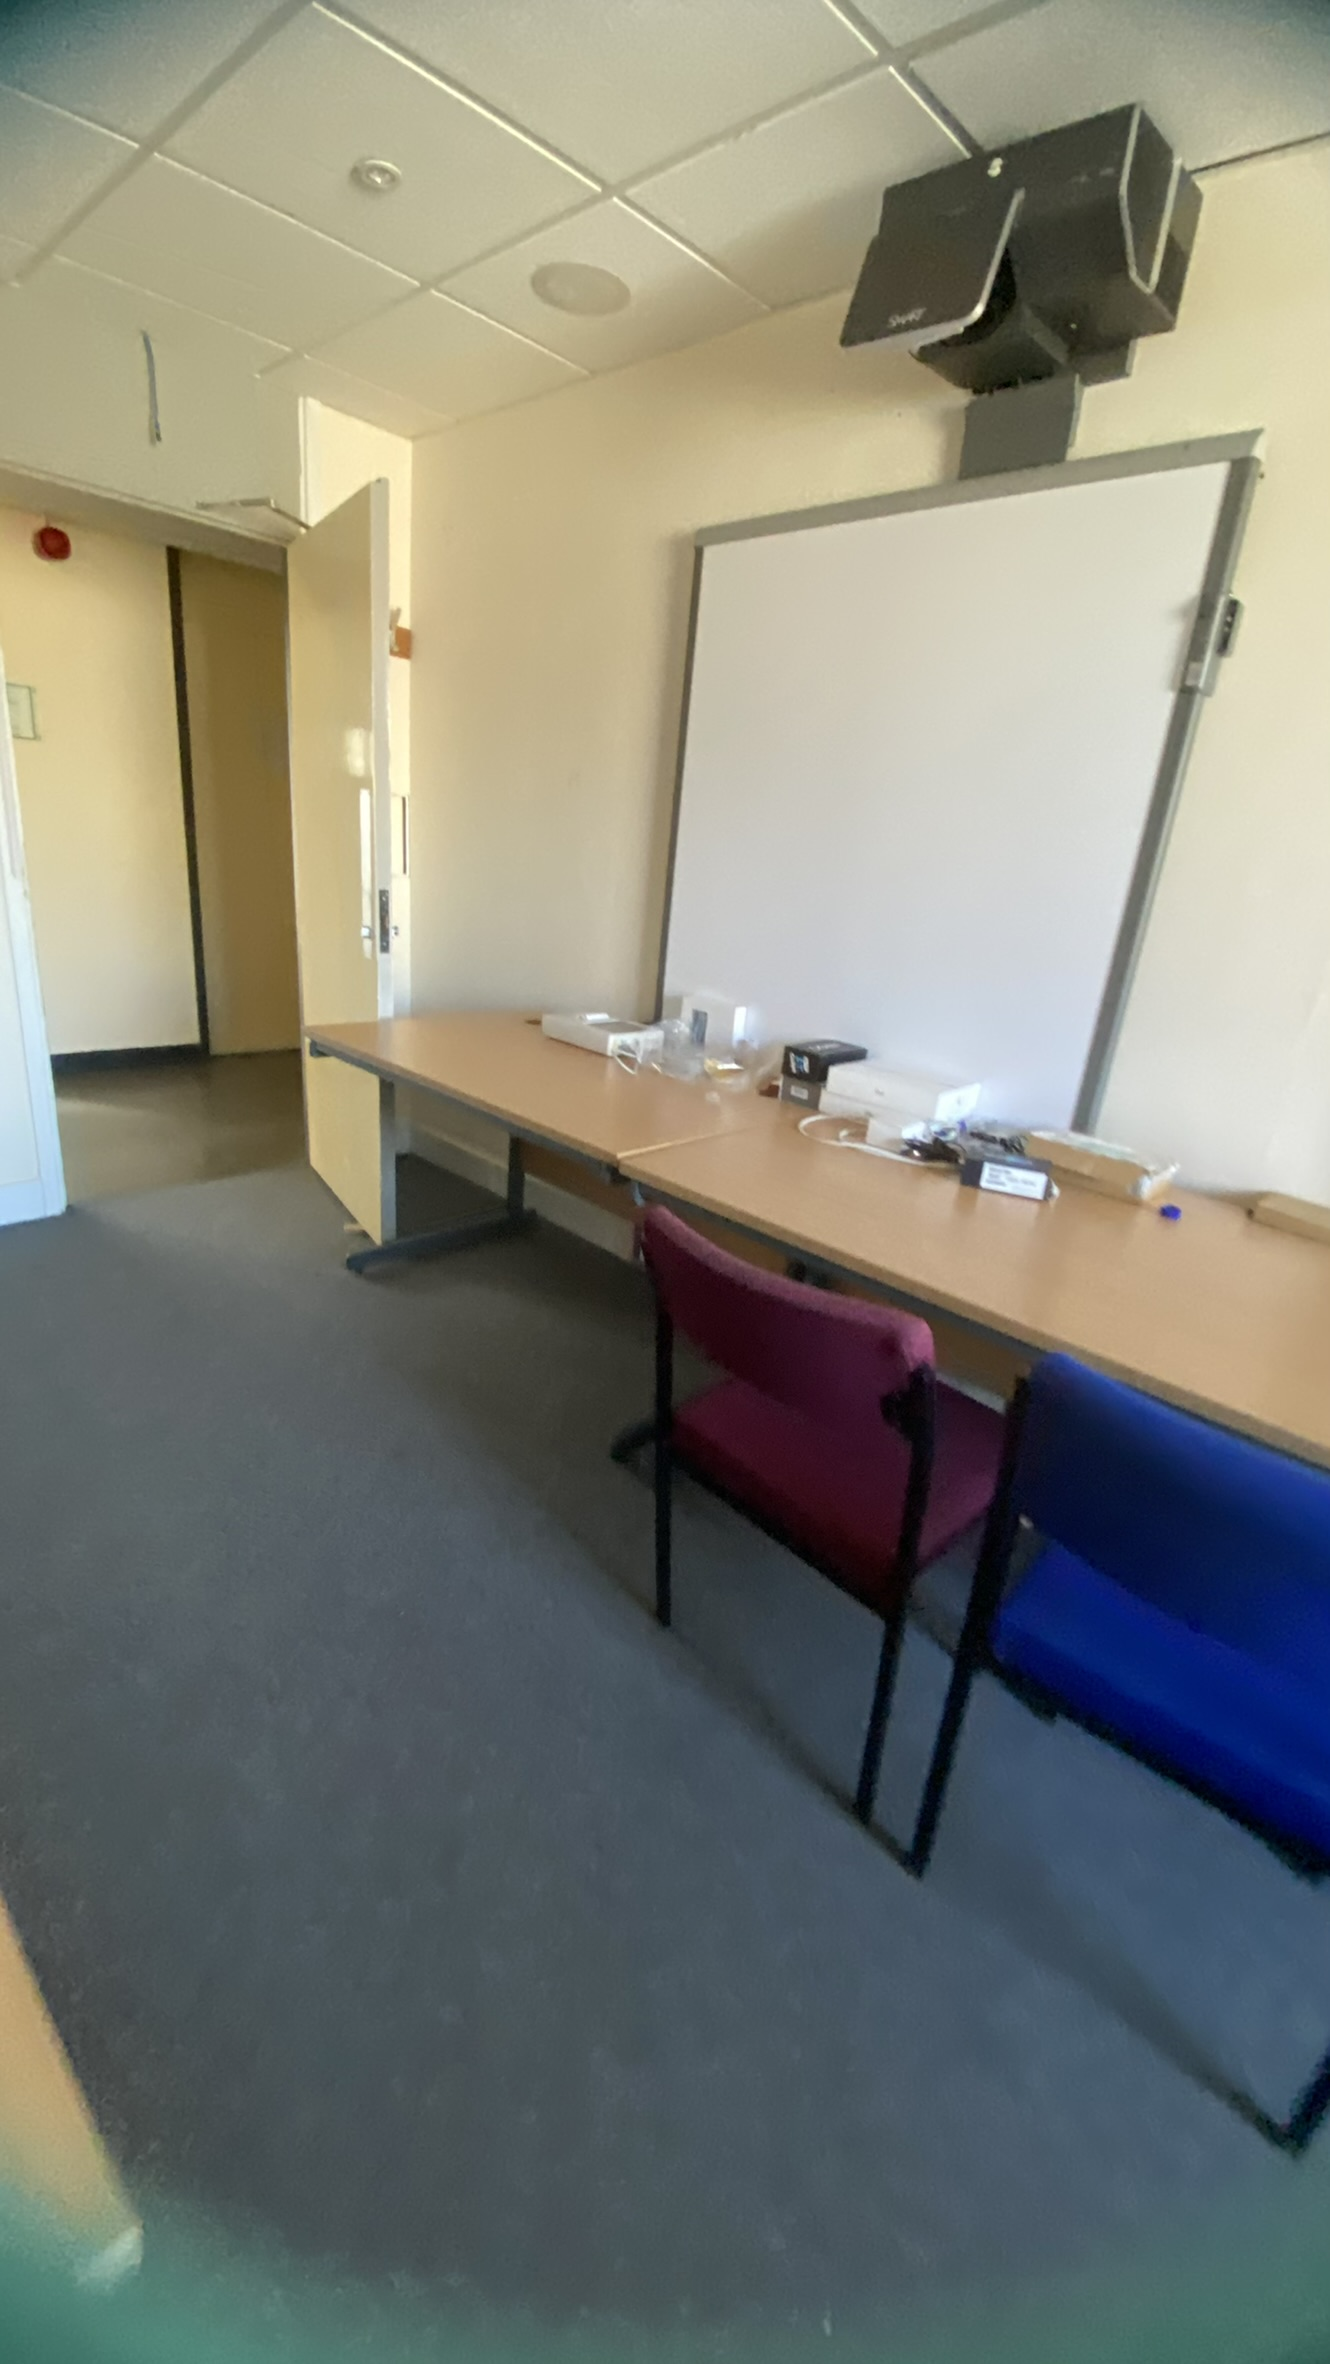chair: (992, 1317, 1330, 2142), (615, 1184, 945, 1913)
door: (208, 476, 464, 1291)
table: (283, 981, 1330, 2030)
